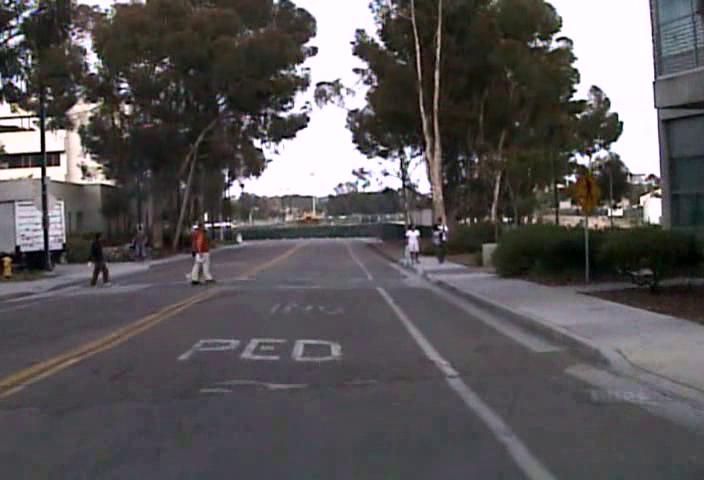pedestrianCrossing: (570, 173, 602, 212)
